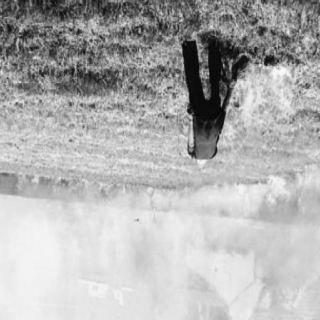Fire: (98, 182, 136, 210), (146, 184, 168, 222), (69, 176, 93, 200), (178, 186, 196, 208), (30, 175, 41, 193)
